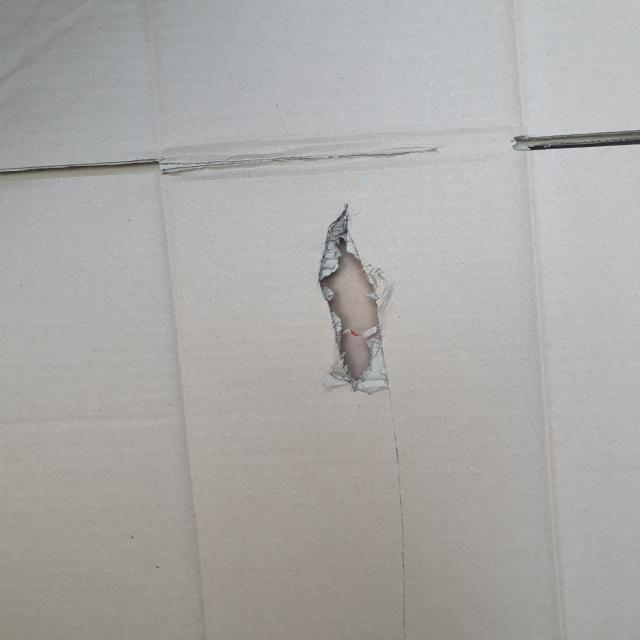hole: (308, 198, 391, 396)
